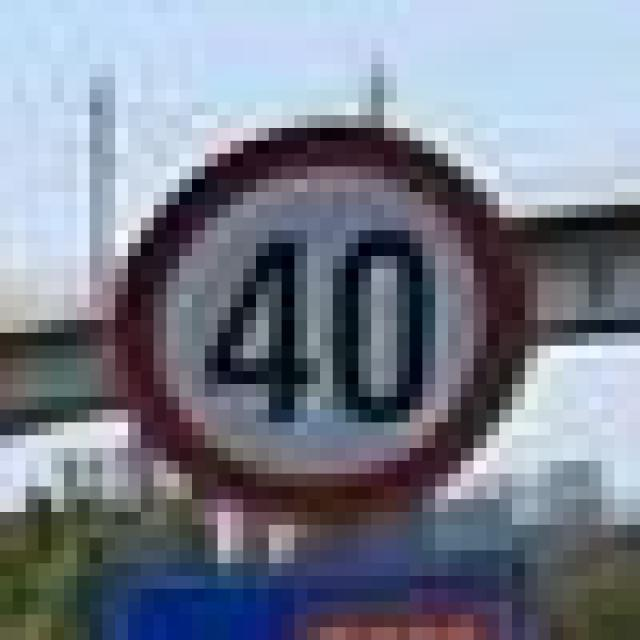SPEED_LIMIT_40: (104, 114, 535, 532)
